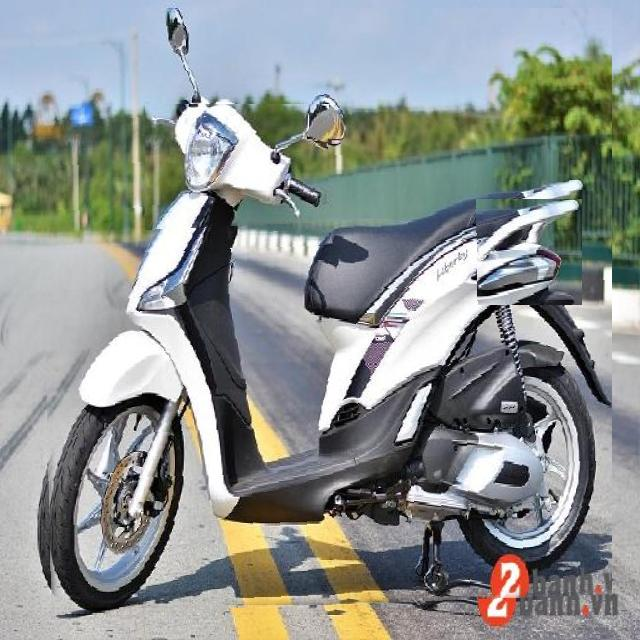All: (38, 8, 612, 615)
Head: (146, 104, 330, 230)
Tail: (476, 199, 582, 305)
